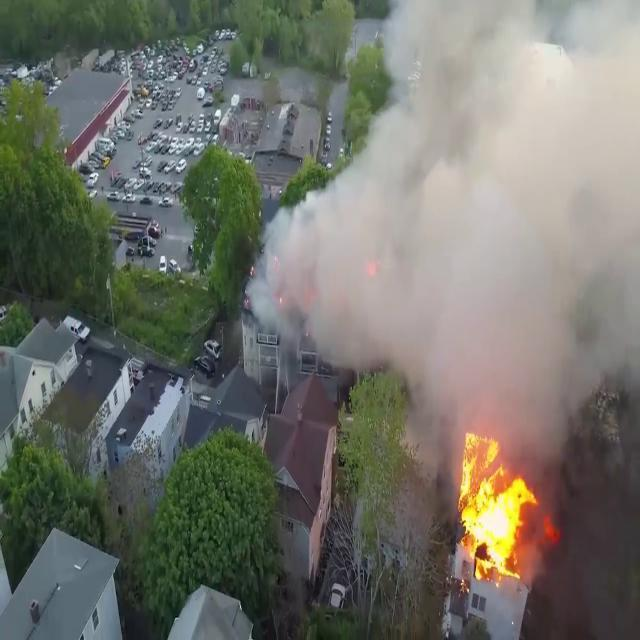Fire: (452, 429, 540, 579)
Smoke: (252, 0, 640, 457)
